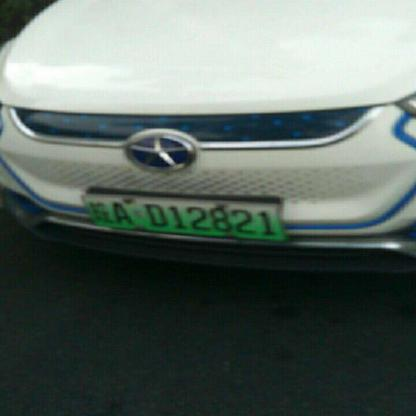lp: (82, 196, 283, 240)
